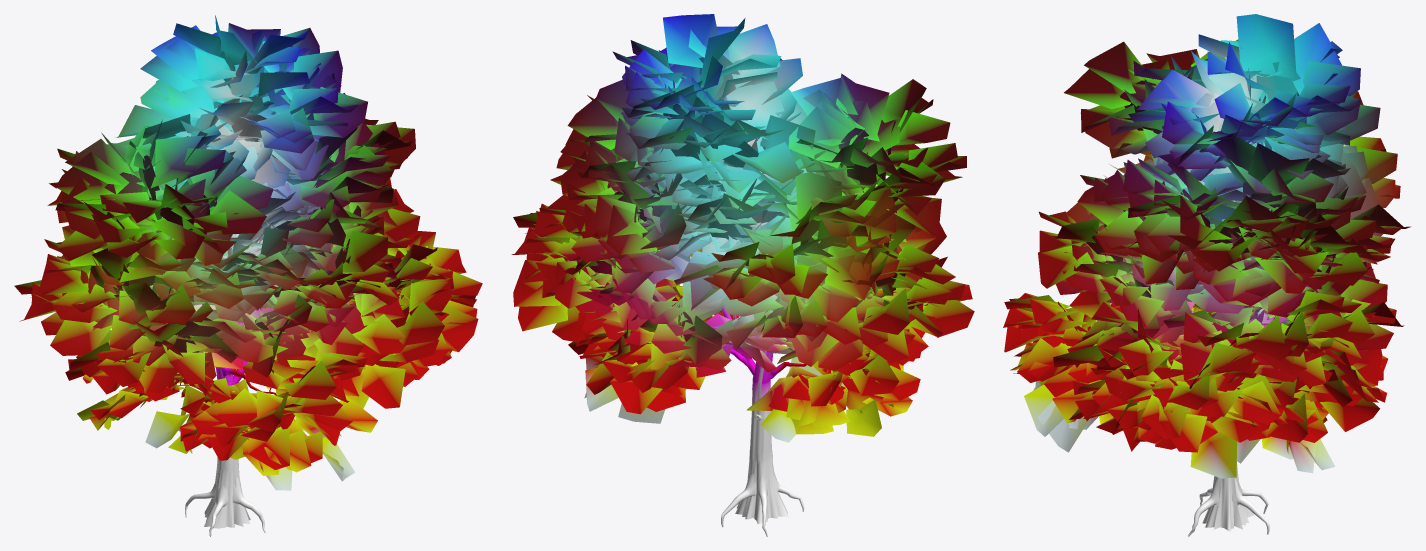
File: arden_forest_maple_03_green.fbx
3 renders of one model, left to right at view 1: azimuth 30°, elevation 25°; view 2: azimuth 150°, elevation 25°; view 3: azimuth 270°, elevation 25°, orthographic. The views are drawn at different scales.
Visible parts, largest first — view 1: arden_forest_maple_03_green_leaves, arden_forest_maple_03_green_bark; view 2: arden_forest_maple_03_green_leaves, arden_forest_maple_03_green_bark; view 3: arden_forest_maple_03_green_leaves, arden_forest_maple_03_green_bark.
Boxes of the visible parts, <box> form: arden_forest_maple_03_green_leaves: <box>14,15,482,490</box>; arden_forest_maple_03_green_bark: <box>156,231,276,536</box>; arden_forest_maple_03_green_leaves: <box>511,14,974,442</box>; arden_forest_maple_03_green_bark: <box>689,187,870,536</box>; arden_forest_maple_03_green_leaves: <box>1003,14,1410,478</box>; arden_forest_maple_03_green_bark: <box>1129,272,1281,536</box>.
Size of the model in its own units: 10.84 by 8.69 by 12.09.
